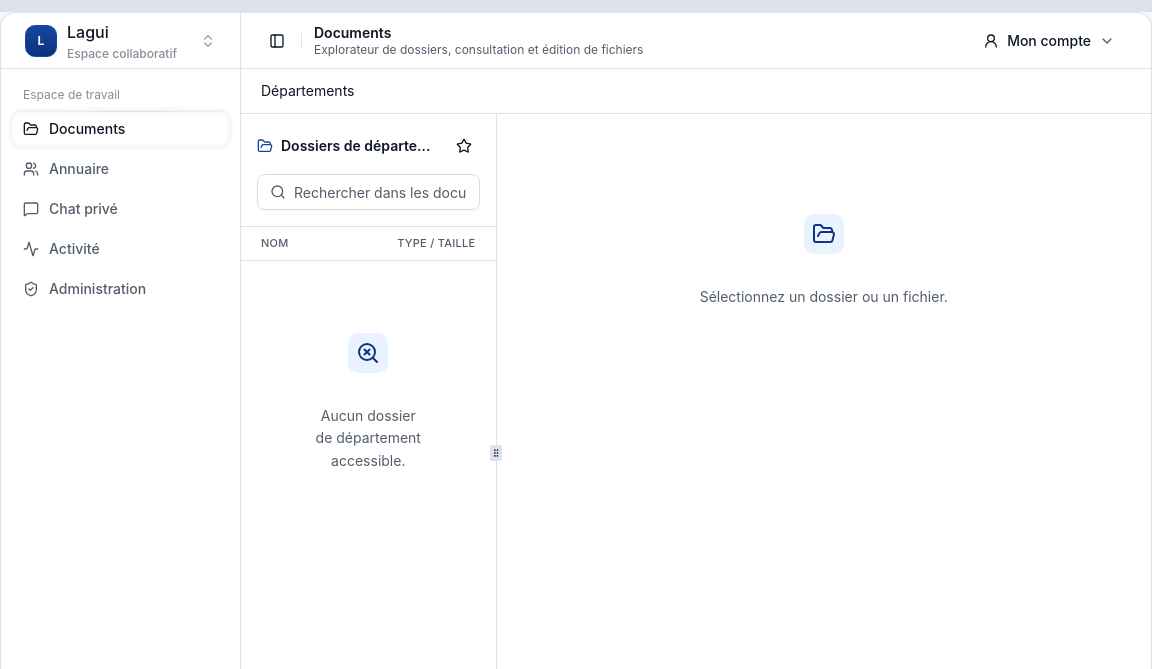
Scenario: WorkspaceShell › permet de naviguer entre les onglets et synchronise le paramètre ?tab=
Click the tab "Annuaire": (120, 169) 11,151 -> 230,187
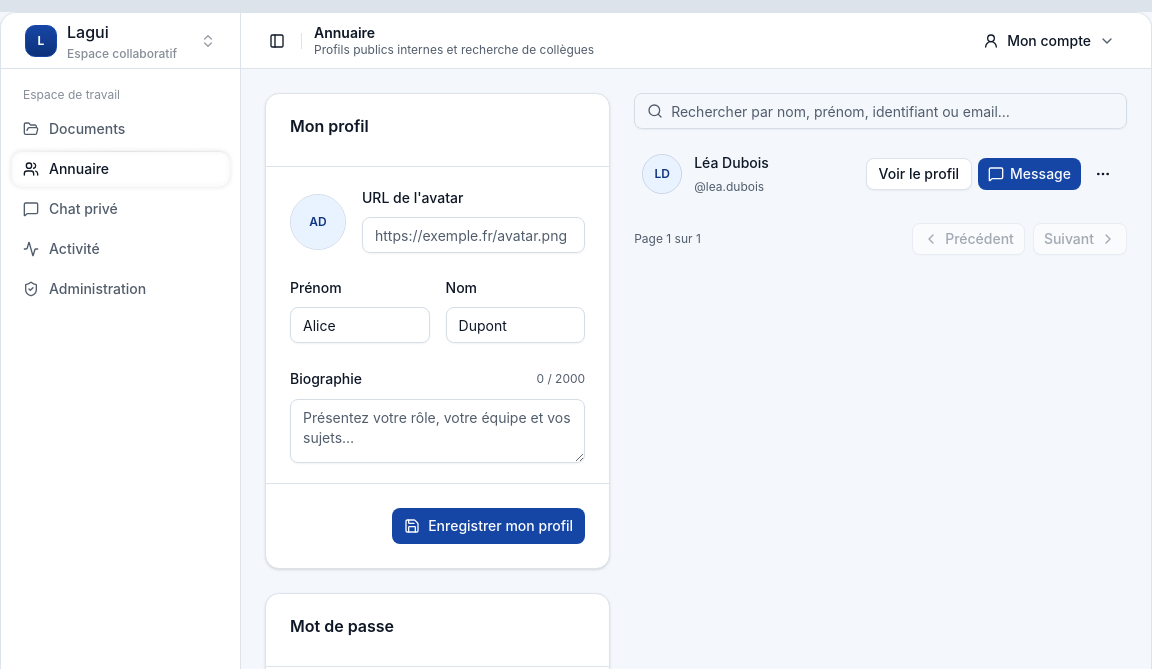
expect the field named "Rechercher un collègue" is shown: met, box 663,93 -> 1126,129
Click the tab "Chat privé": (120, 209) 11,191 -> 230,227
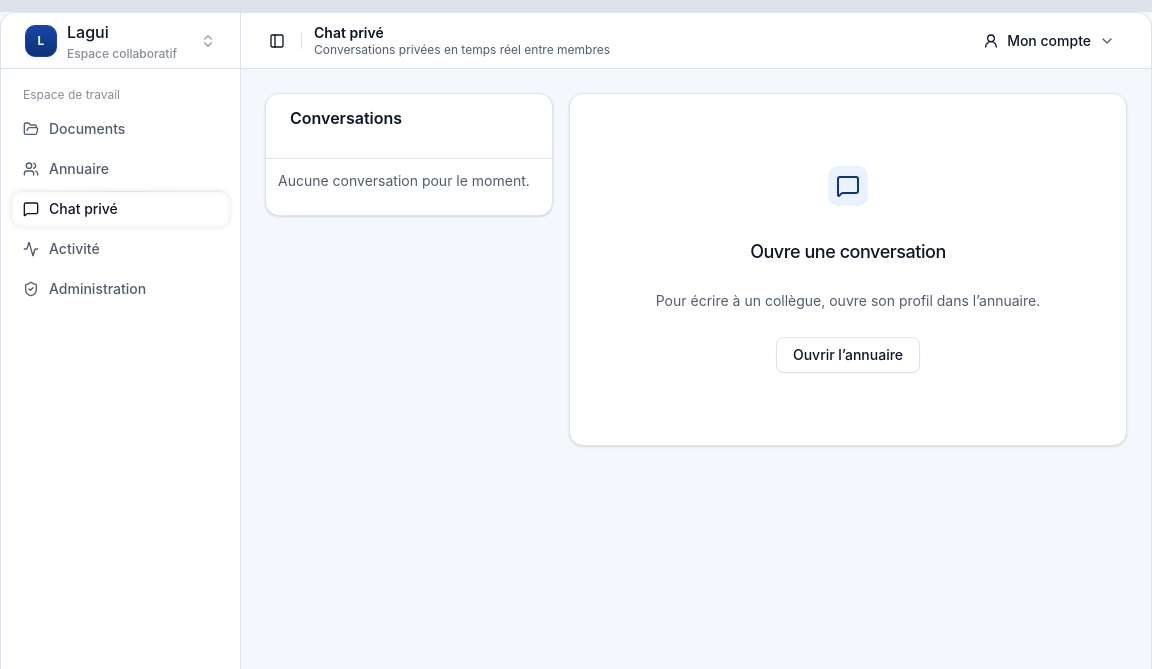
expect the heading "Conversations" is shown: met, box 290,108 -> 402,128
Click the tab "Activité": (120, 249) 11,231 -> 230,267
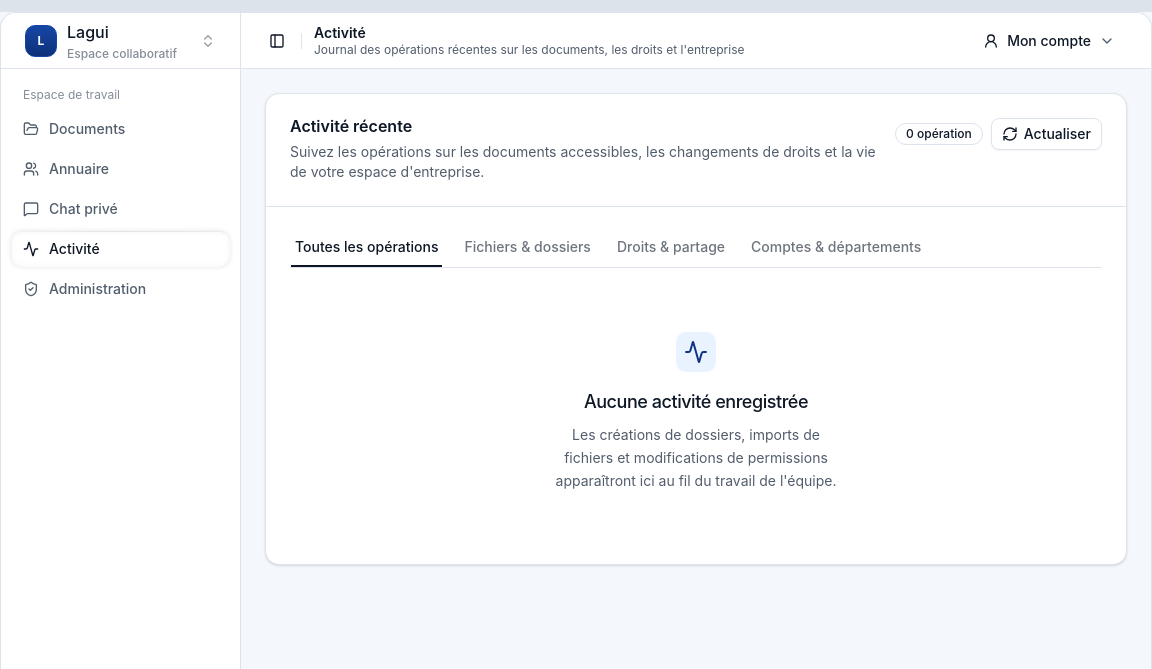
expect the heading "Activité récente" is shown: met, box 290,116 -> 412,136
Click the tab "Administration": (120, 289) 11,271 -> 230,307
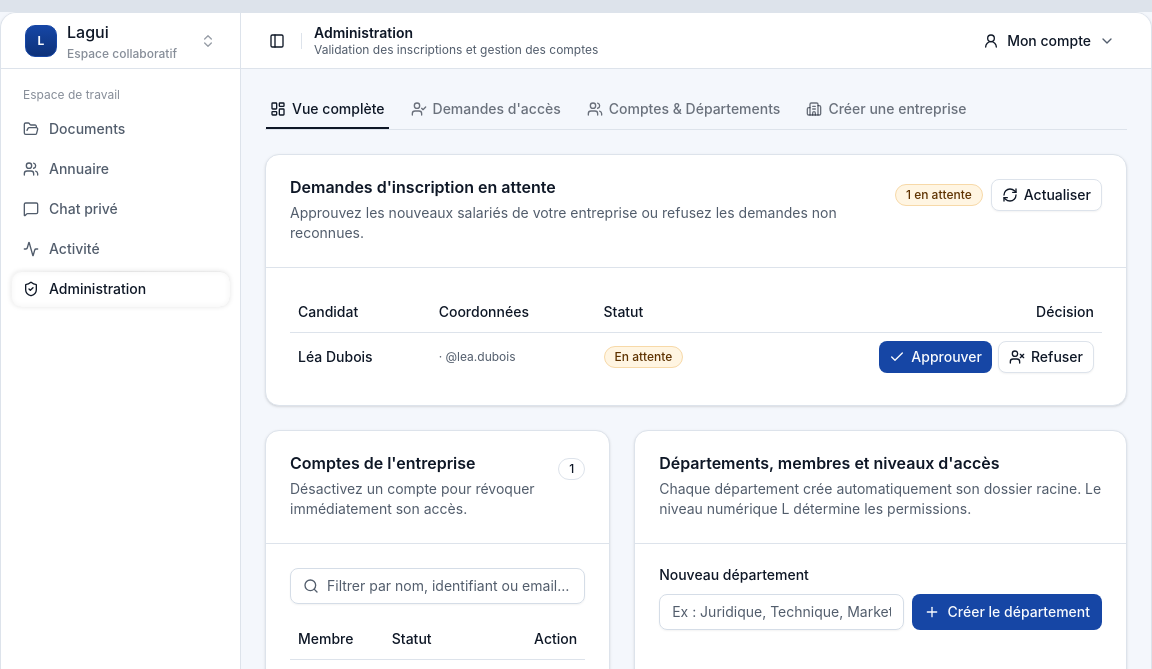
expect the heading "Demandes d'inscription en attente" is shown: met, box 290,177 -> 556,197
